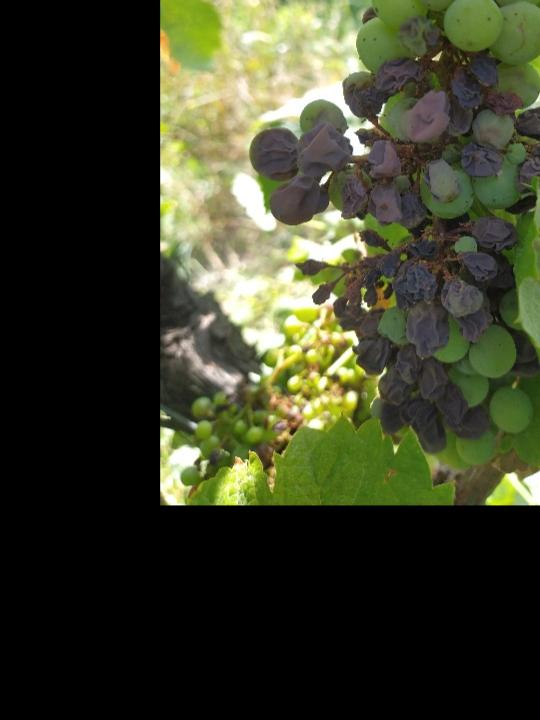grape: (245, 0, 540, 477)
